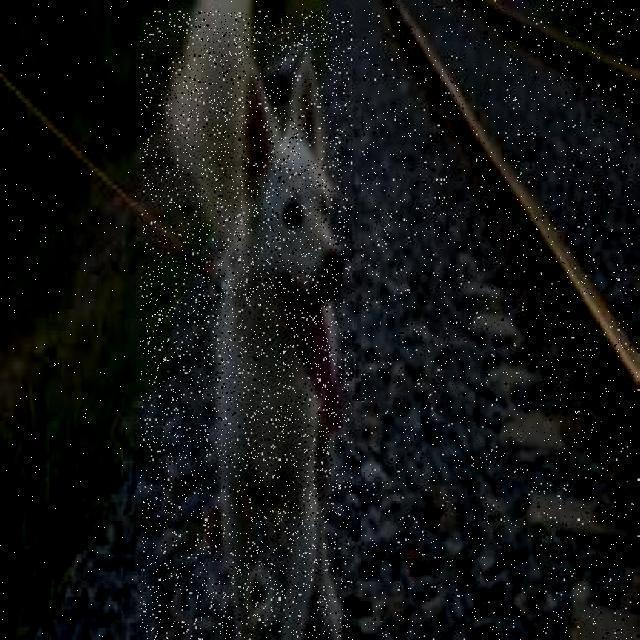danger: (140, 11, 352, 640)
rail: (361, 0, 639, 640)
